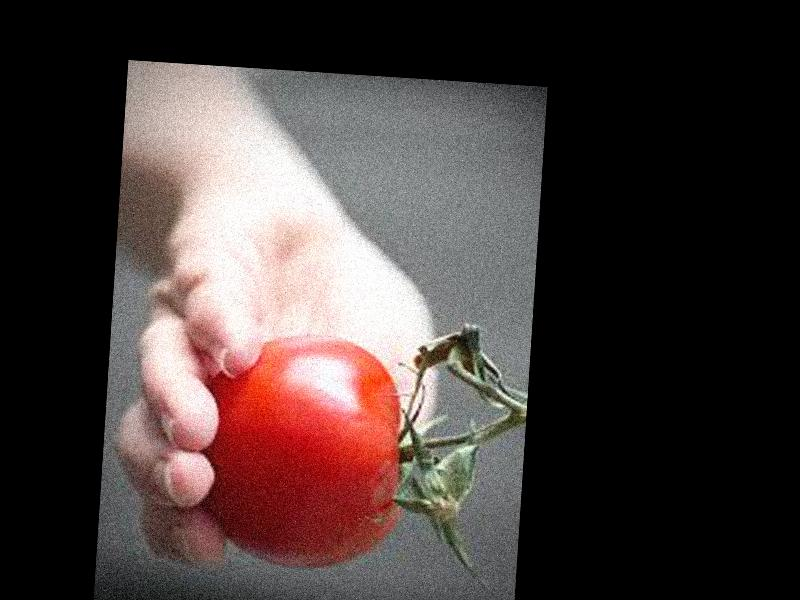Tomato: (196, 330, 415, 575)
